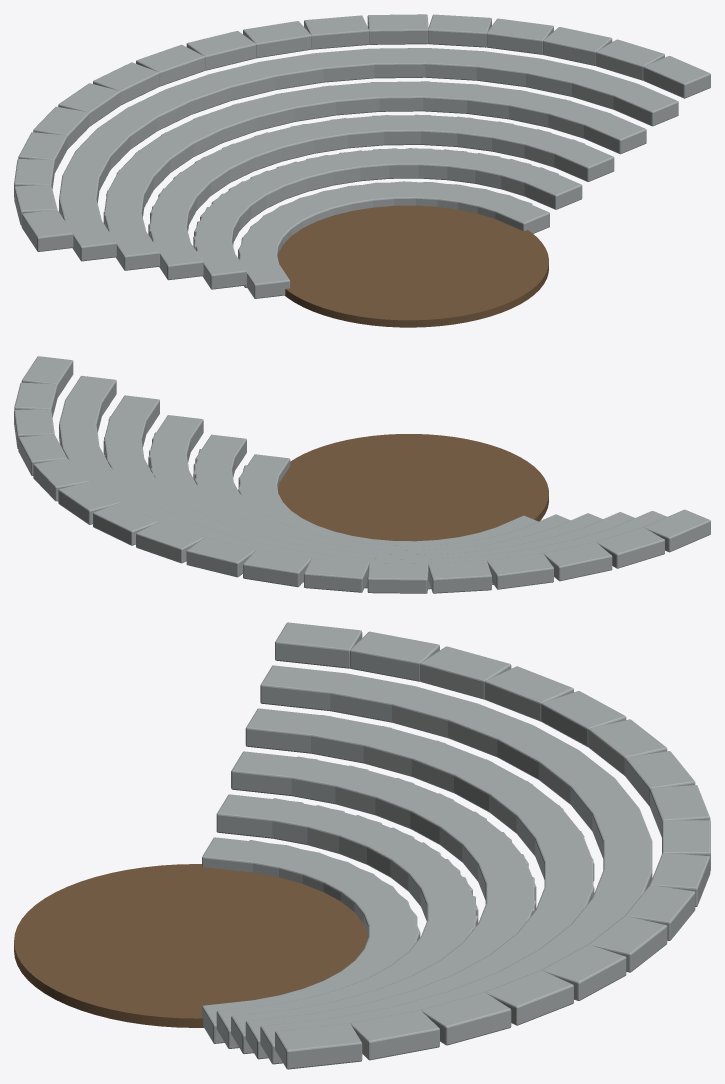
Rendered from karaoke-amphitheatre.glb.
3 renders of one model, top to bottom at view 1: azimuth 30°, elevation 25°; view 2: azimuth 150°, elevation 25°; view 3: azimuth 270°, elevation 25°, orthographic. The views are drawn at different scales.
Parts seen in each view (by area): view 1: DC_Mesh_DC_Concrete, DC_Mesh_DC_Wood; view 2: DC_Mesh_DC_Concrete, DC_Mesh_DC_Wood; view 3: DC_Mesh_DC_Concrete, DC_Mesh_DC_Wood.
Part boxes in pixels (bbox=[...]): DC_Mesh_DC_Concrete: bbox=[14, 14, 710, 298]; DC_Mesh_DC_Wood: bbox=[278, 205, 548, 327]; DC_Mesh_DC_Concrete: bbox=[14, 356, 710, 593]; DC_Mesh_DC_Wood: bbox=[278, 434, 548, 541]; DC_Mesh_DC_Concrete: bbox=[202, 622, 710, 1069]; DC_Mesh_DC_Wood: bbox=[14, 864, 368, 1027].
Size of the model in its own units: 15.54 by 1.93 by 10.68.
